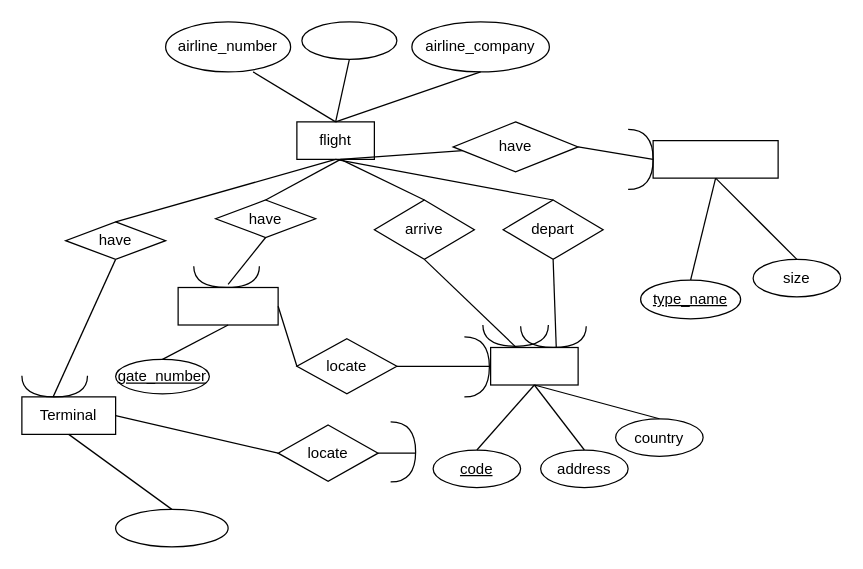
Image size: 863x569. Some labels were removed from this diagram. Here are the shapes that lost their labels. From the top down, the box of each, then its label:
(301, 21, 397, 59): date
(652, 139, 778, 178): airplane_type
(177, 286, 278, 325): gate
(489, 346, 578, 385): airport
(114, 508, 228, 547): Terminal_ID
